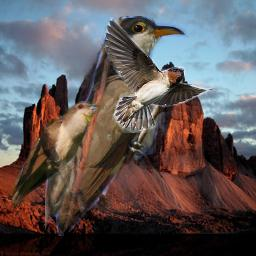Cuckoo: (45, 16, 220, 236), (7, 101, 100, 210)
Swallow: (103, 17, 217, 133)
